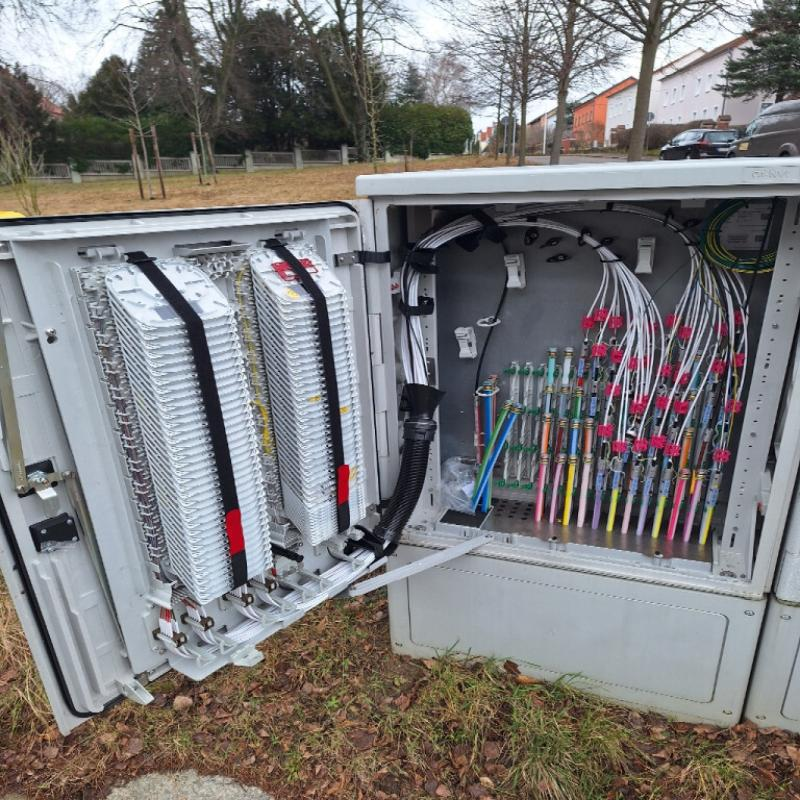NT-Gehause: (0, 163, 800, 736)
Spleiskassetten: (63, 250, 291, 624), (234, 231, 386, 559)
